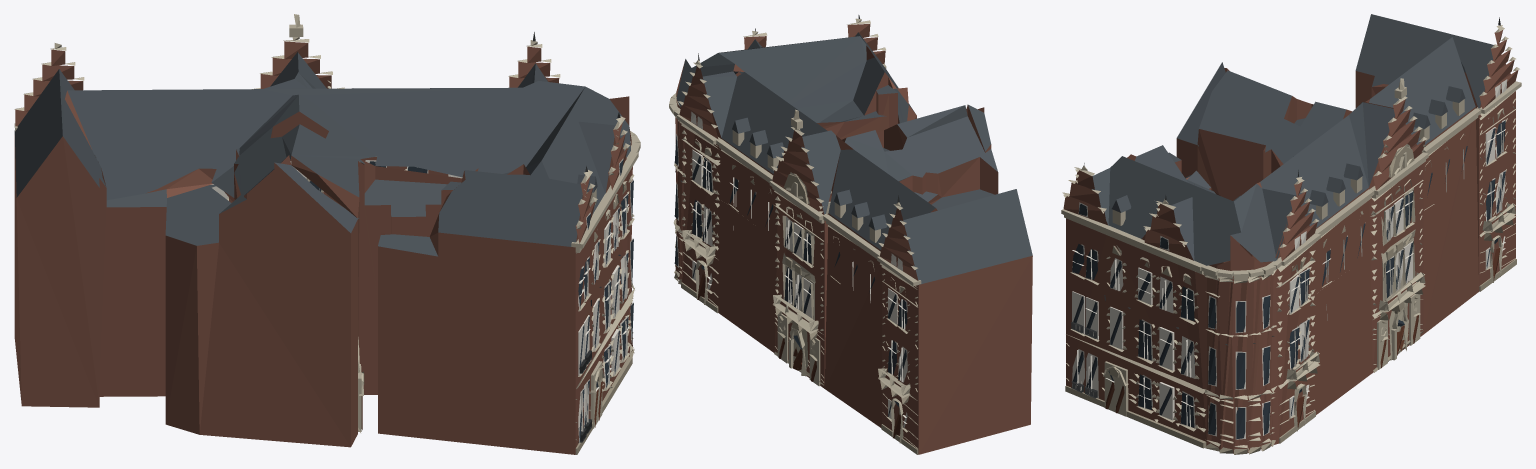
File: kweekschool-zeevaart.lod1.glb
The picture shows the model from 3 angles, left to right: view 1: azimuth 30°, elevation 25°; view 2: azimuth 150°, elevation 25°; view 3: azimuth 270°, elevation 25°; orthographic projection. The views are drawn at different scales.
Parts seen in each view (by area): view 1: kweekschool-zeevaart; view 2: kweekschool-zeevaart; view 3: kweekschool-zeevaart.
Part boxes in pixels (left/top/right/bottom): kweekschool-zeevaart: left=14, top=14, right=640, bottom=454; kweekschool-zeevaart: left=669, top=15, right=1032, bottom=454; kweekschool-zeevaart: left=1061, top=14, right=1521, bottom=454.
Size of the model in its own units: 44.03 by 25.49 by 38.56.
